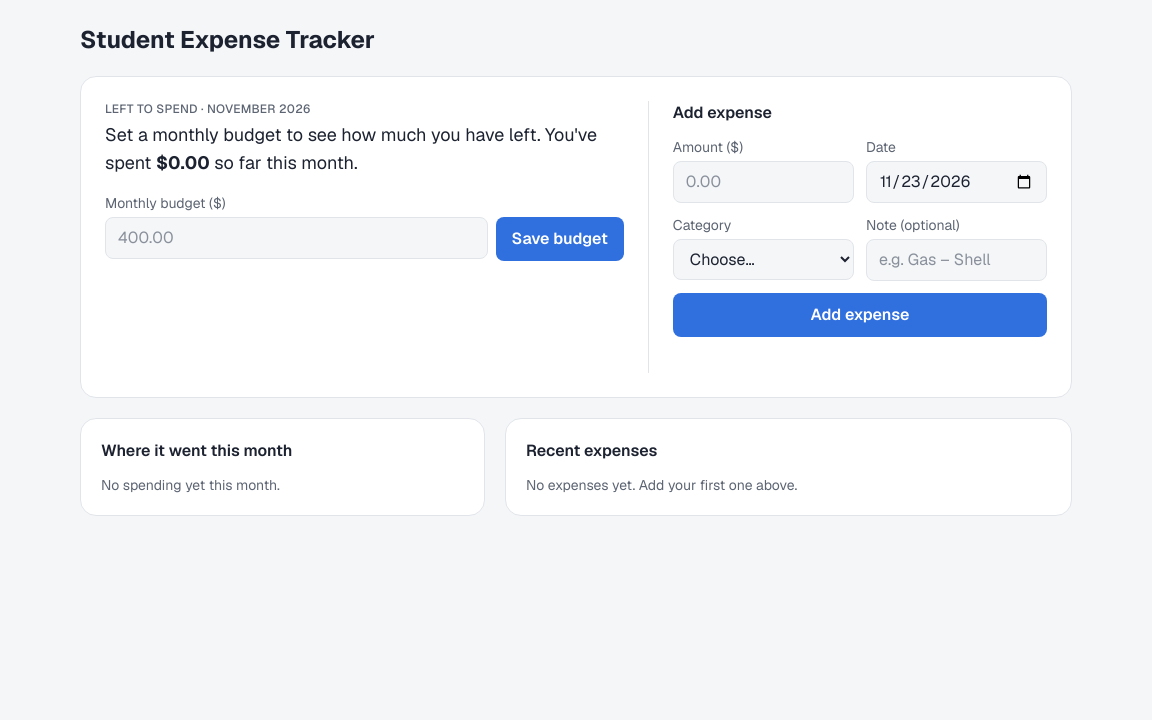
S1-AC1: clicking Add expense records the date and amount and shows the category › shows field errors and records nothing when input is missing
This screenshot has width=1152, height=720.
Step 1. Click the button "Add expense" → (860,315), box [673,293,1047,337]
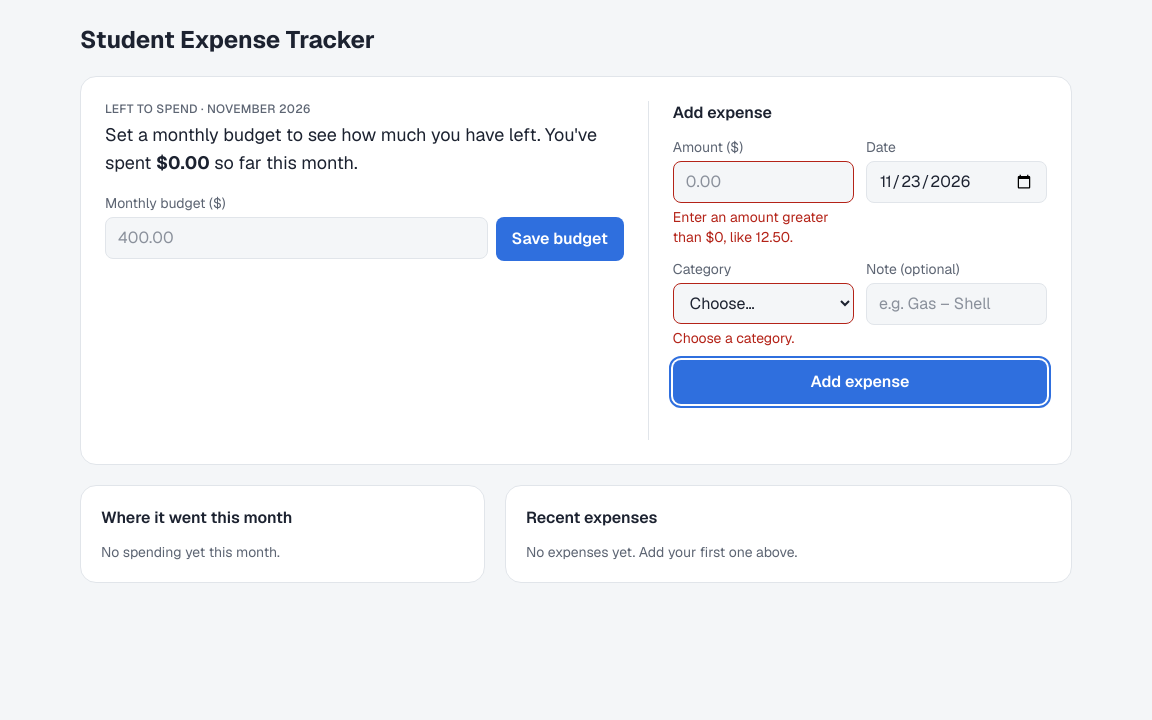
Check: the text "Enter an amount greater than $0, like 12.50." is shown, box [673,207,854,247]
Check: the text "Choose a category." is shown, box [673,329,794,347]
